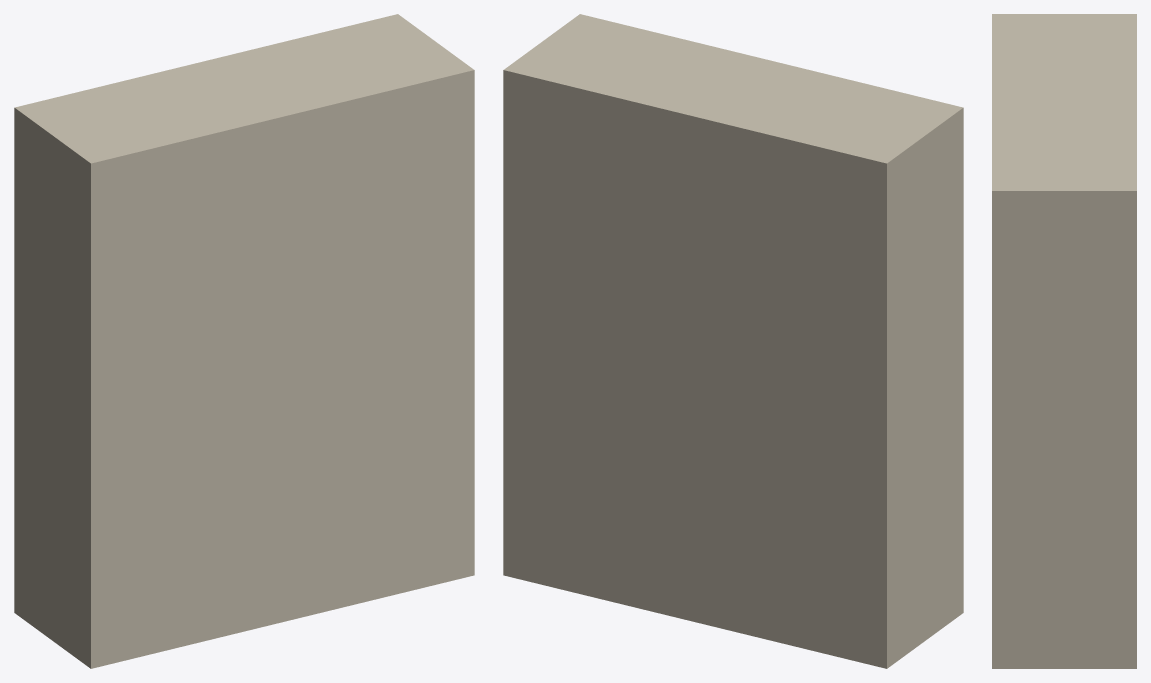
Rendered from vidaxl-outdoor-41702-g2-proxy.glb.
The picture shows the model from 3 angles, left to right: view 1: azimuth 30°, elevation 25°; view 2: azimuth 150°, elevation 25°; view 3: azimuth 270°, elevation 25°; orthographic projection. The views are drawn at different scales.
Parts seen in each view (by area): view 1: proxy_body; view 2: proxy_body; view 3: proxy_body.
Boxes of the visible parts, x1=… form: proxy_body: x1=14, y1=14, x2=474, y2=668; proxy_body: x1=503, y1=14, x2=963, y2=668; proxy_body: x1=992, y1=14, x2=1136, y2=668.
Size of the model in its own units: 1.62 by 2.04 by 0.56.
